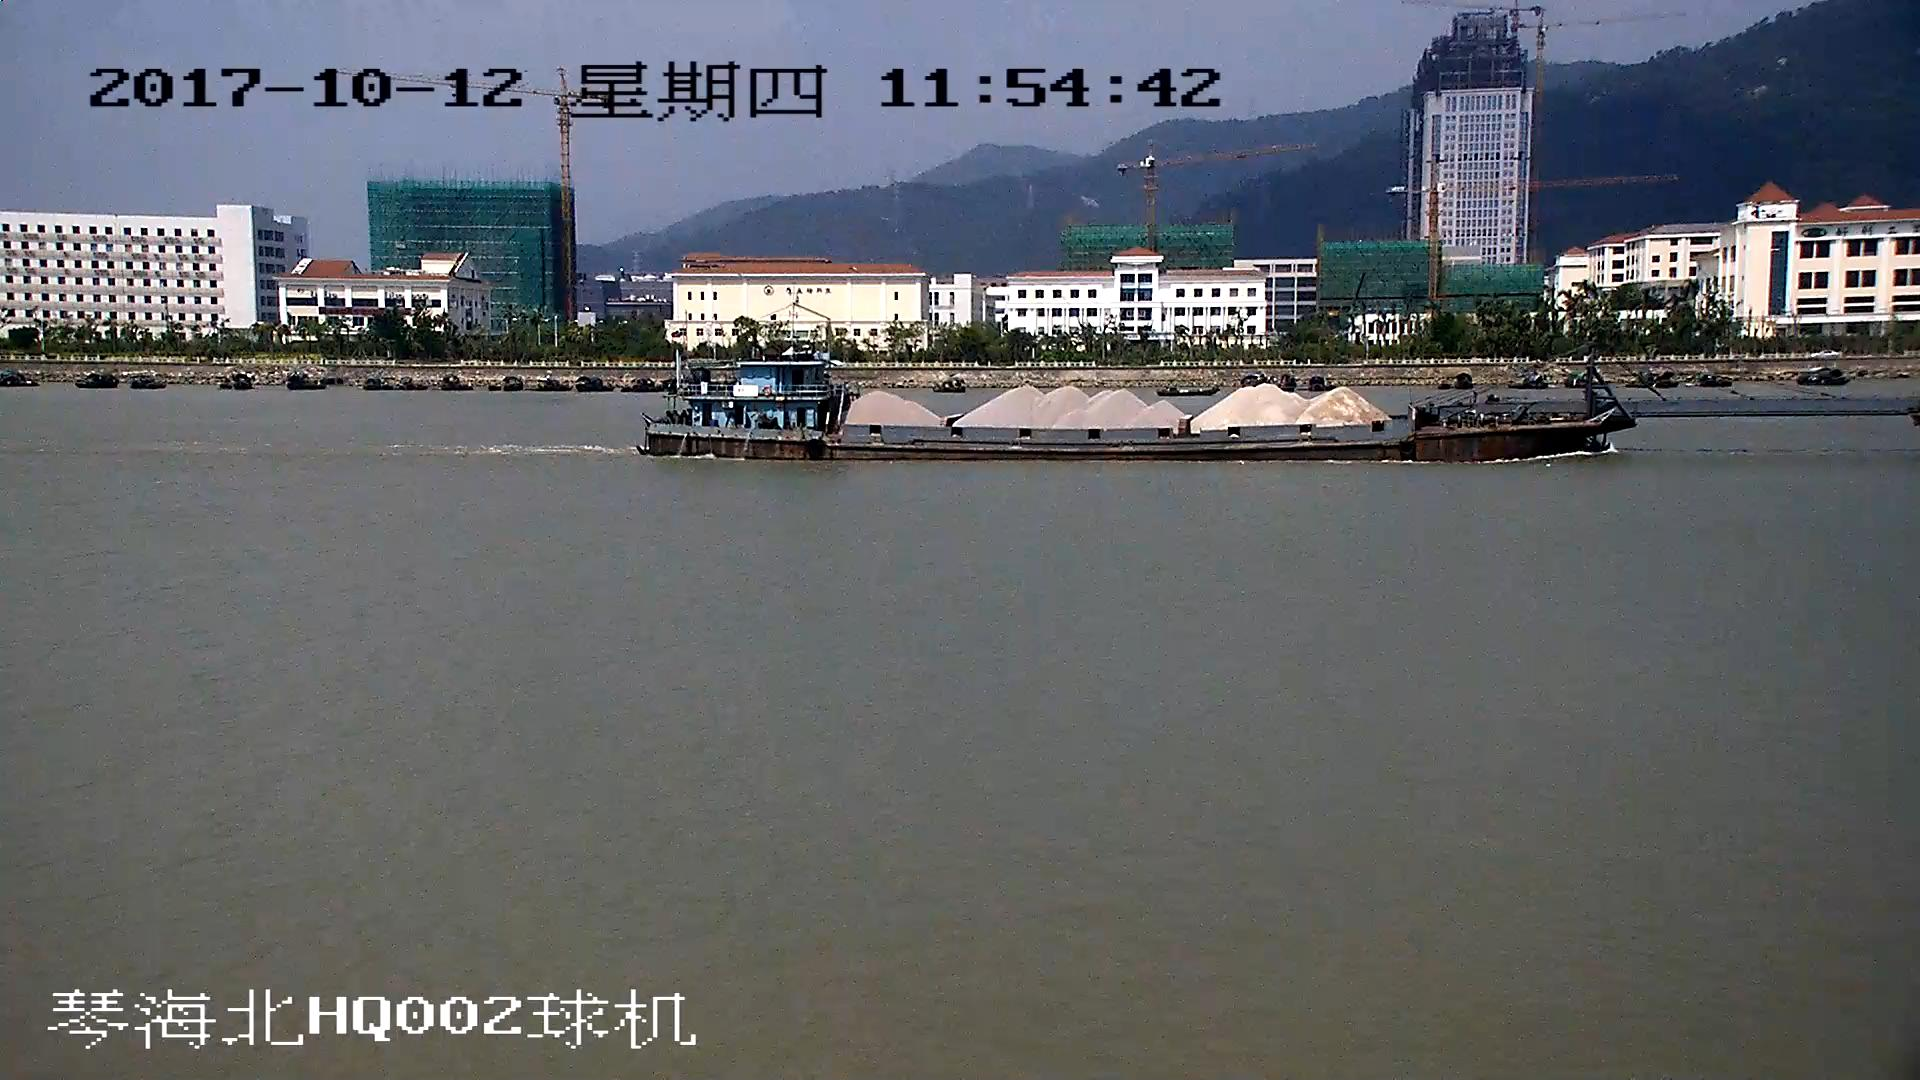ore carrier: (645, 322, 1920, 460)
